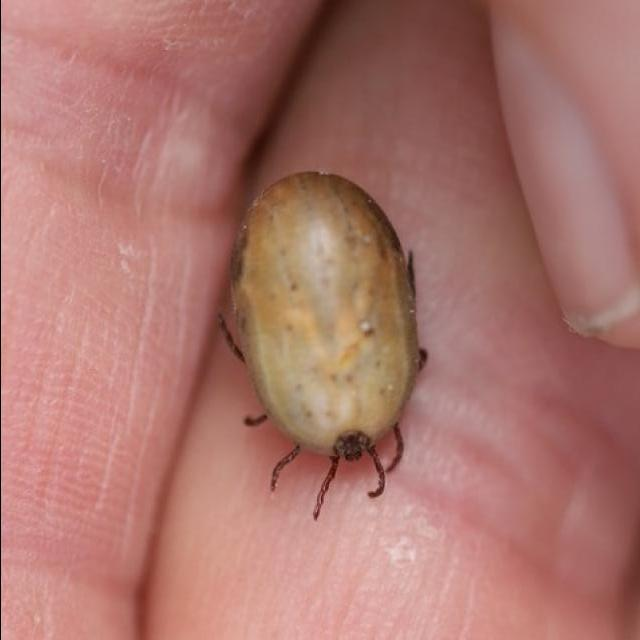Dermacentor Reticulatus-F-Fed: (216, 171, 427, 522)
